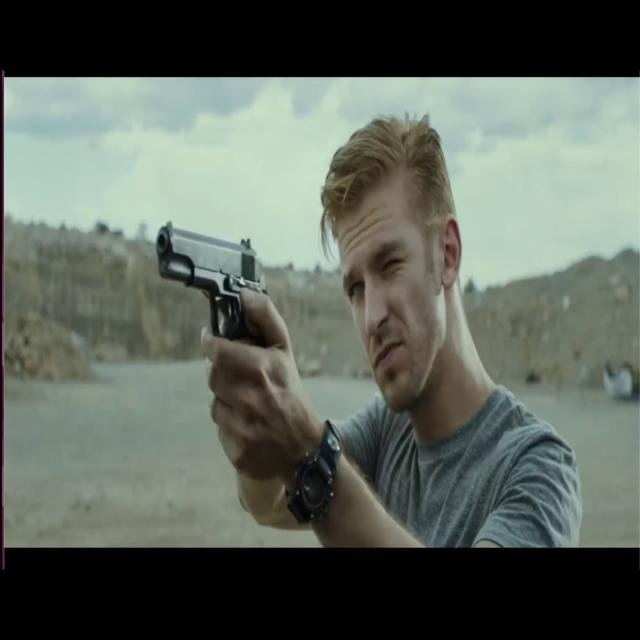weapons: (143, 194, 277, 365)
